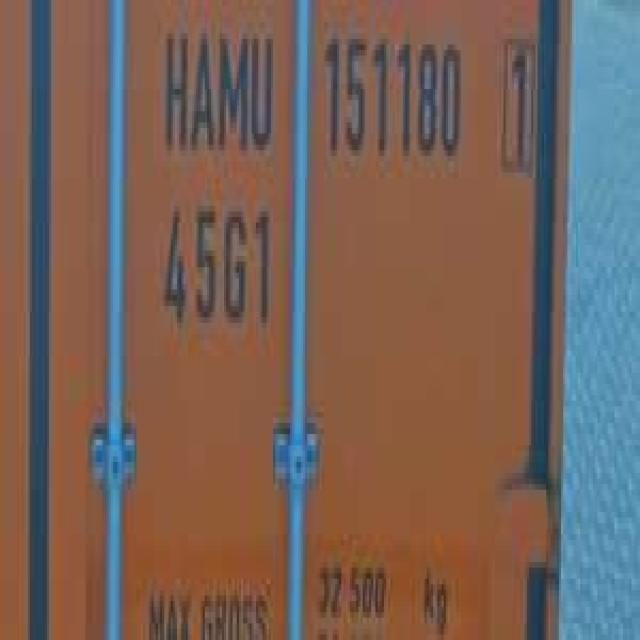dv: (497, 24, 542, 198)
owner: (154, 17, 276, 165)
serial: (317, 21, 468, 180)
size: (154, 189, 280, 348)
